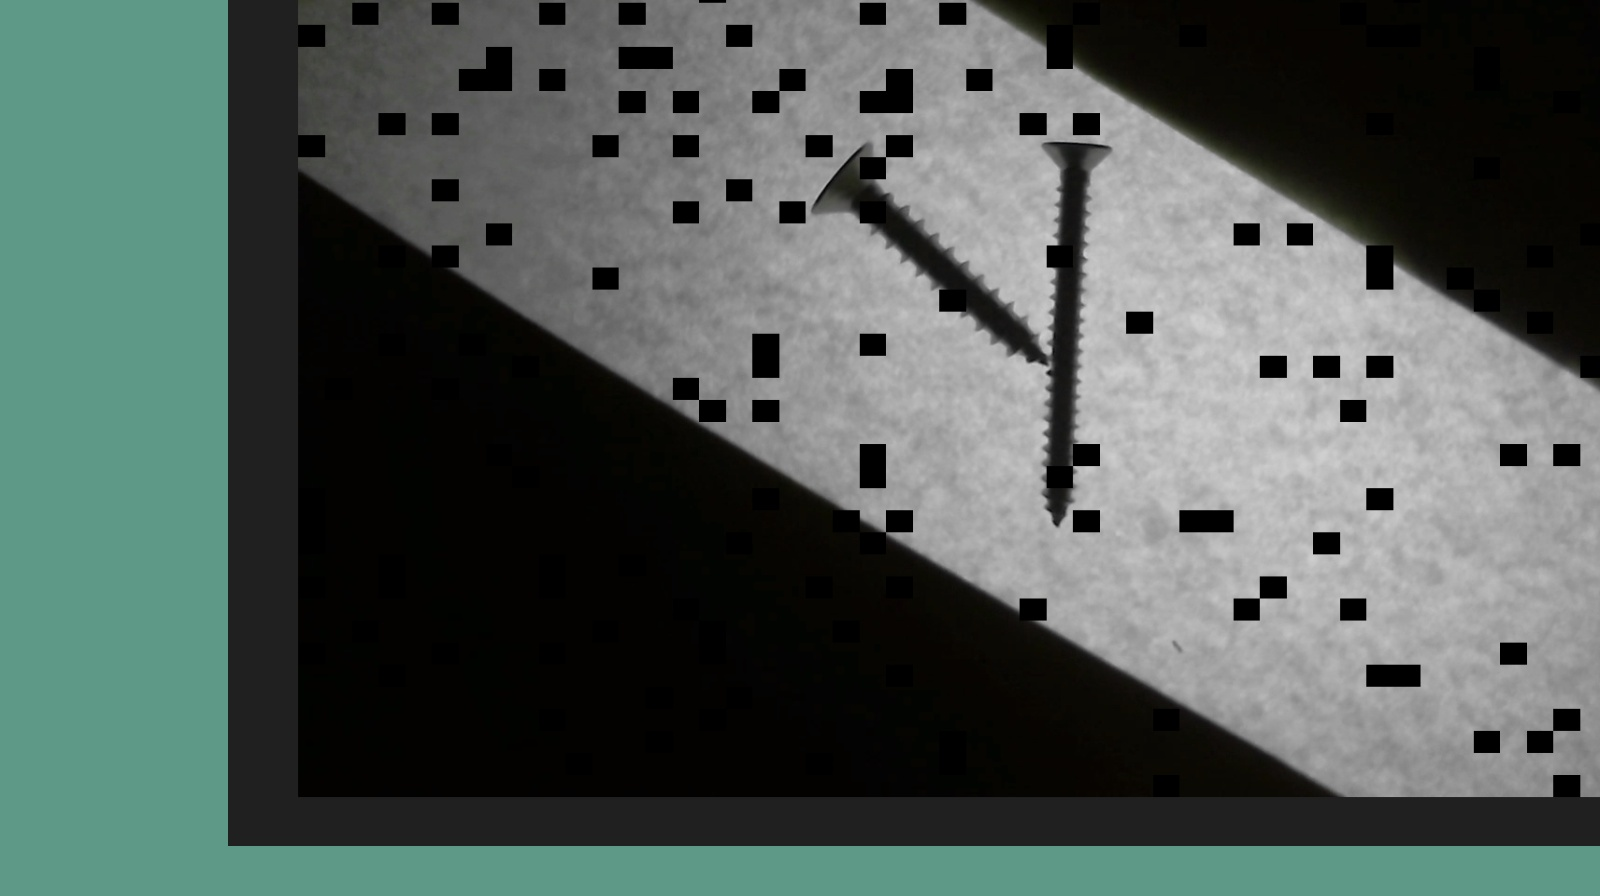S001: (800, 139, 1048, 372)
S002: (1037, 136, 1123, 532)
